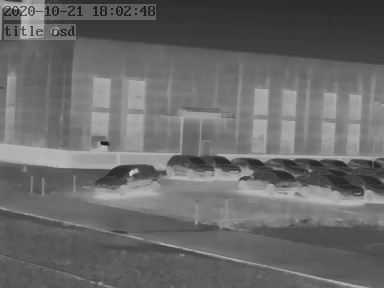vehicle: (94, 164, 159, 195), (302, 174, 363, 200), (238, 172, 300, 193), (164, 152, 212, 179), (353, 173, 384, 202), (206, 153, 243, 177), (261, 155, 302, 172), (233, 155, 273, 172), (347, 156, 379, 170), (316, 156, 347, 170), (296, 156, 325, 169)
